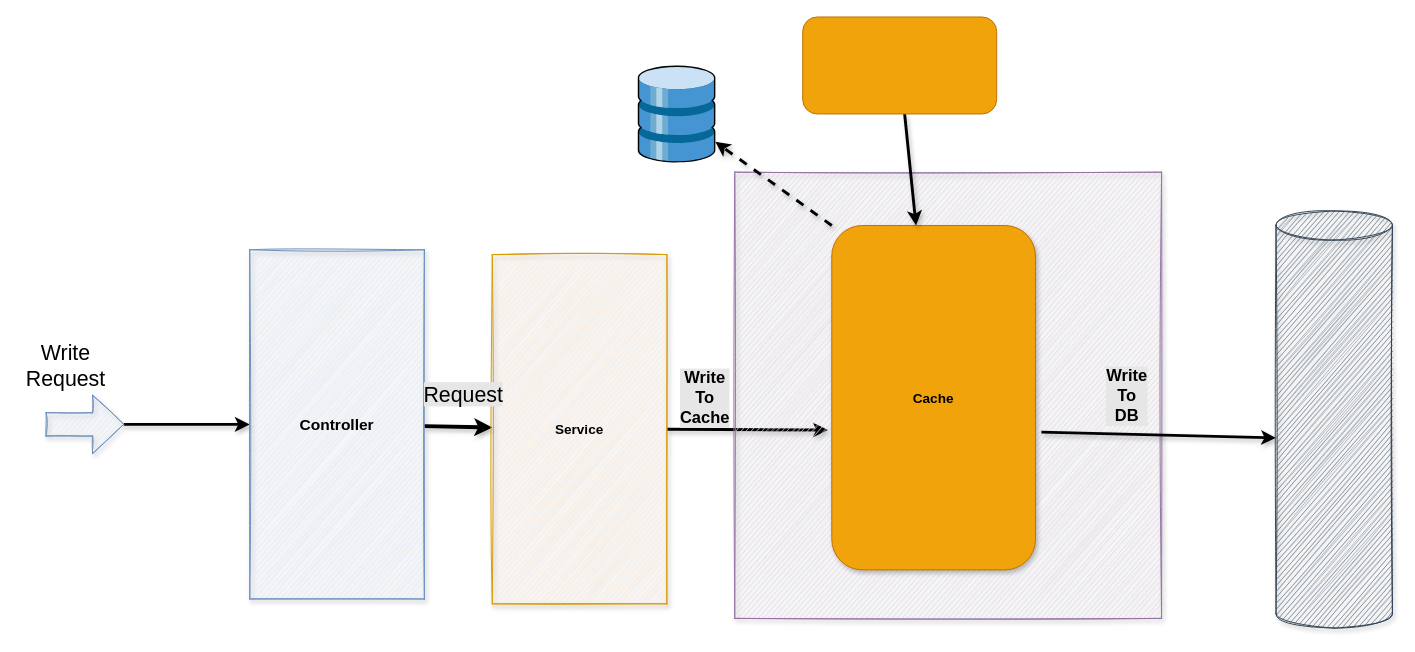
Image size: 1415x652. Some labels were removed from this diagram. The shapes that lost their labels are listed below. From the top down, each one's centre as x and y in pixels, then its label:
the point at 899,65: Cache Manager
the point at 1334,420: DB
